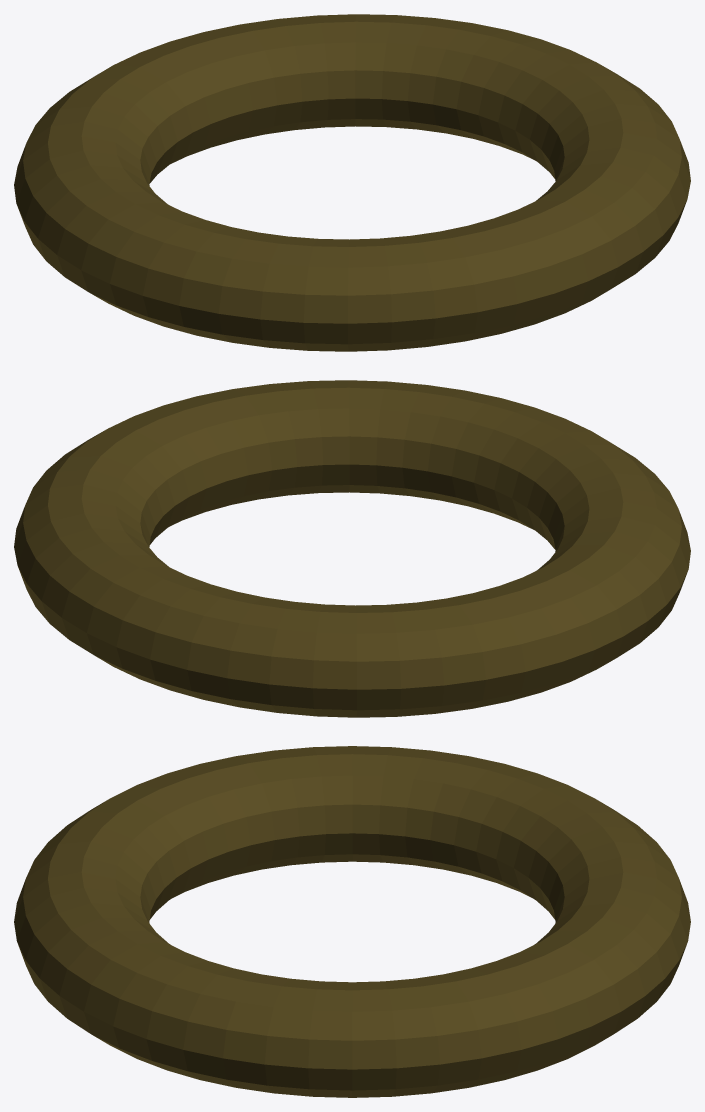
The model's file is marco.fbx.
3 renders of one model, top to bottom at view 1: azimuth 30°, elevation 25°; view 2: azimuth 150°, elevation 25°; view 3: azimuth 270°, elevation 25°, orthographic. The views are drawn at different scales.
Parts seen in each view (by area): view 1: Rosca; view 2: Rosca; view 3: Rosca.
Boxes of the visible parts, x1=… form: Rosca: x1=14, y1=14, x2=690, y2=351; Rosca: x1=14, y1=380, x2=690, y2=717; Rosca: x1=14, y1=746, x2=690, y2=1097.
Size of the model in its own units: 926 by 145 by 897.
